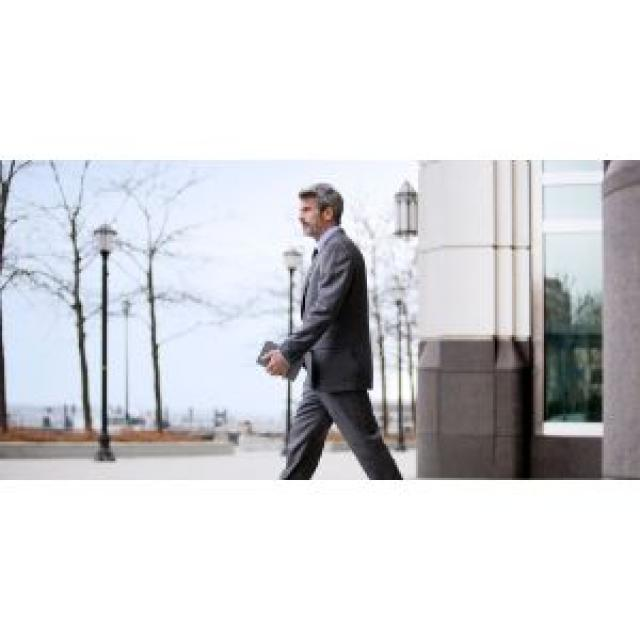nonfall: (253, 188, 420, 473)
